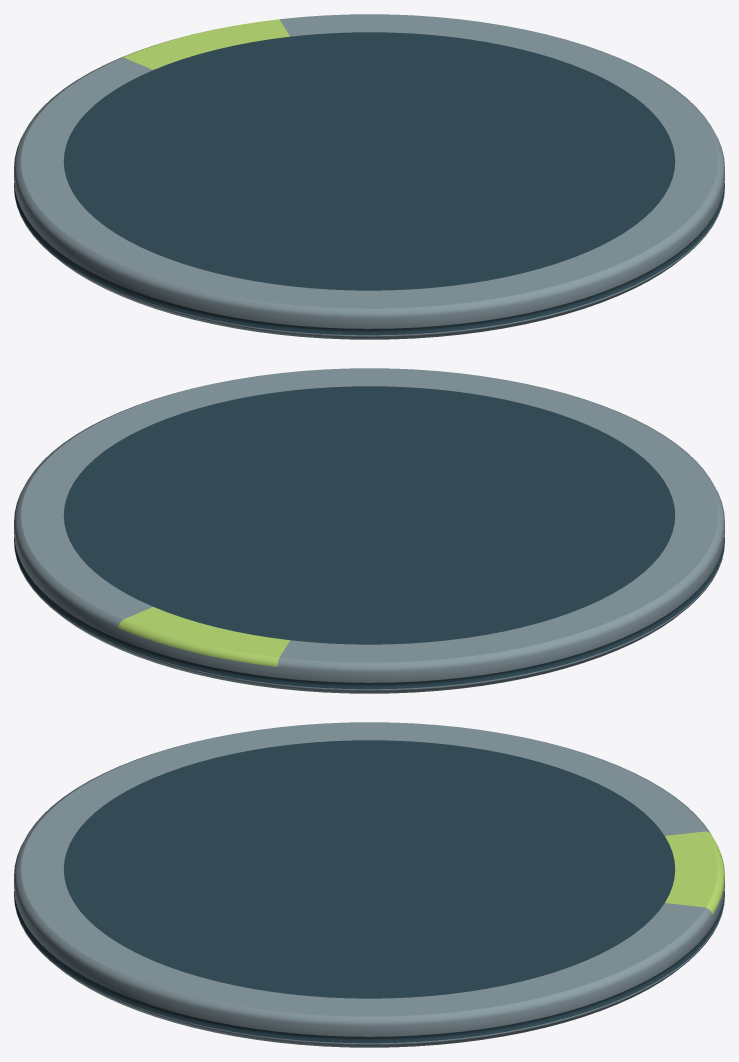
The model's file is d07_sign_island_01.glb.
The picture shows the model from 3 angles, top to bottom: view 1: azimuth 30°, elevation 25°; view 2: azimuth 150°, elevation 25°; view 3: azimuth 270°, elevation 25°; orthographic projection.
Parts seen in each view (by area): view 1: D07SignIsland01_Mesh; view 2: D07SignIsland01_Mesh; view 3: D07SignIsland01_Mesh.
Part boxes in pixels (x1=…): D07SignIsland01_Mesh: x1=14, y1=14, x2=724, y2=339; D07SignIsland01_Mesh: x1=14, y1=368, x2=724, y2=693; D07SignIsland01_Mesh: x1=14, y1=722, x2=724, y2=1047.
Size of the model in its own units: 6 by 0.28 by 6.
